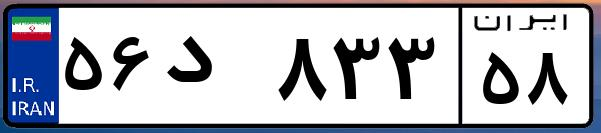3: (385, 28, 445, 110), (330, 28, 385, 110)
5: (57, 26, 110, 100), (475, 38, 525, 113)
6: (110, 28, 158, 98)
8: (270, 28, 330, 110), (525, 38, 570, 115)
د: (158, 20, 270, 120)
